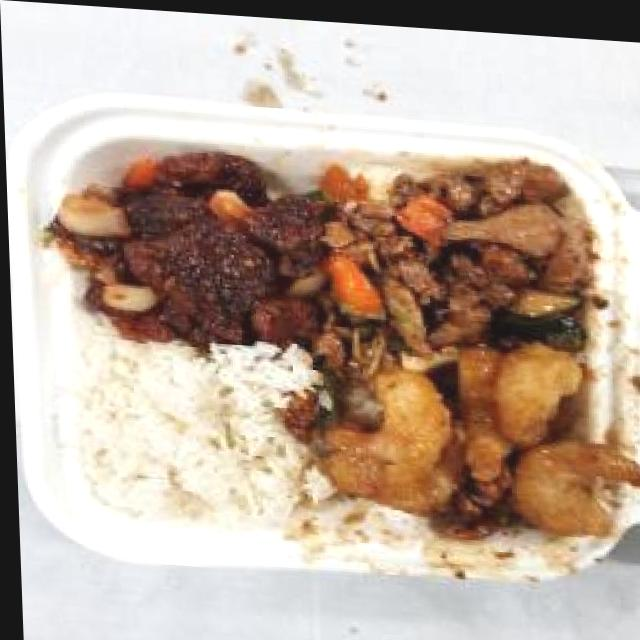Beijing Beef: (47, 132, 328, 352)
Honey Walnut Shrimp: (329, 330, 623, 545)
Kung Pao Chicken: (312, 141, 603, 369)
White Steamed Rice: (68, 338, 306, 528)
